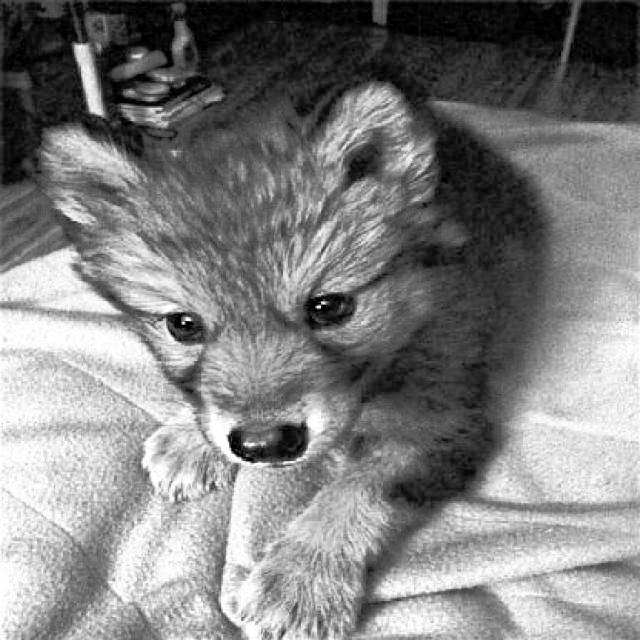Dog: (33, 46, 552, 640)
